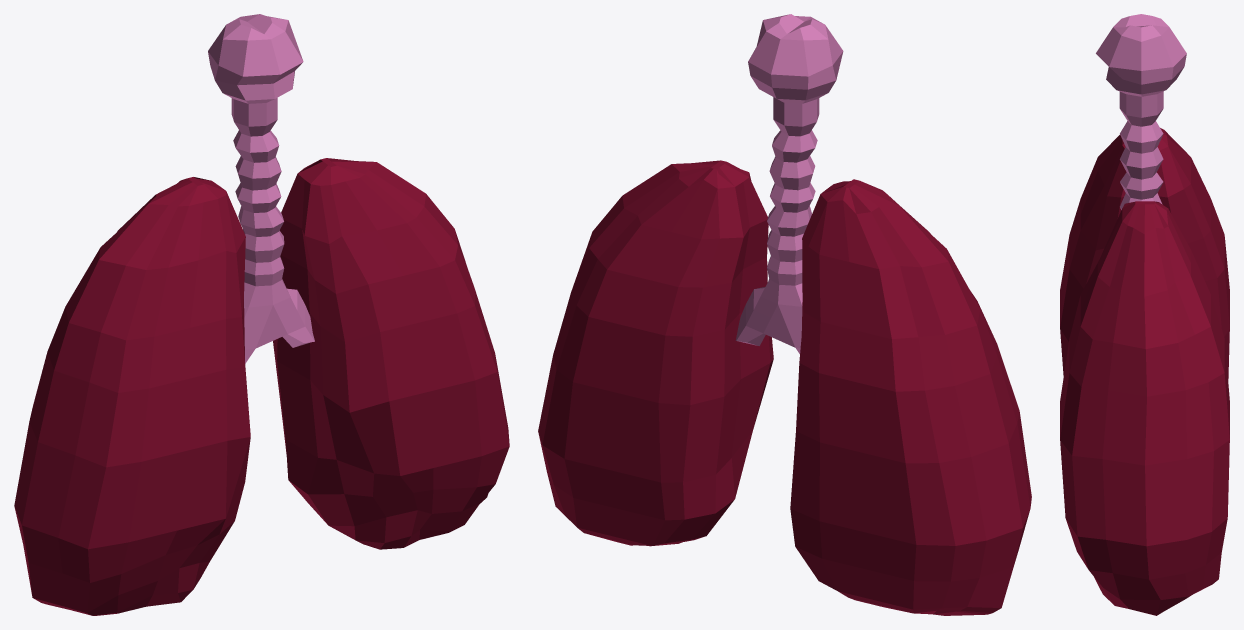
File: pulmon.obj
3 views of the same model, side by side, from view 1: azimuth 30°, elevation 25°; view 2: azimuth 150°, elevation 25°; view 3: azimuth 270°, elevation 25° (orthographic). The views are drawn at different scales.
Visible parts, largest first — view 1: Cube; view 2: Cube; view 3: Cube.
Boxes of the visible parts, x1,y1,x2,y2 form: Cube: (14,14,509,615); Cube: (538,14,1031,615); Cube: (1060,14,1229,615).
Size of the model in its own units: 2.79 by 3.06 by 0.9321.
